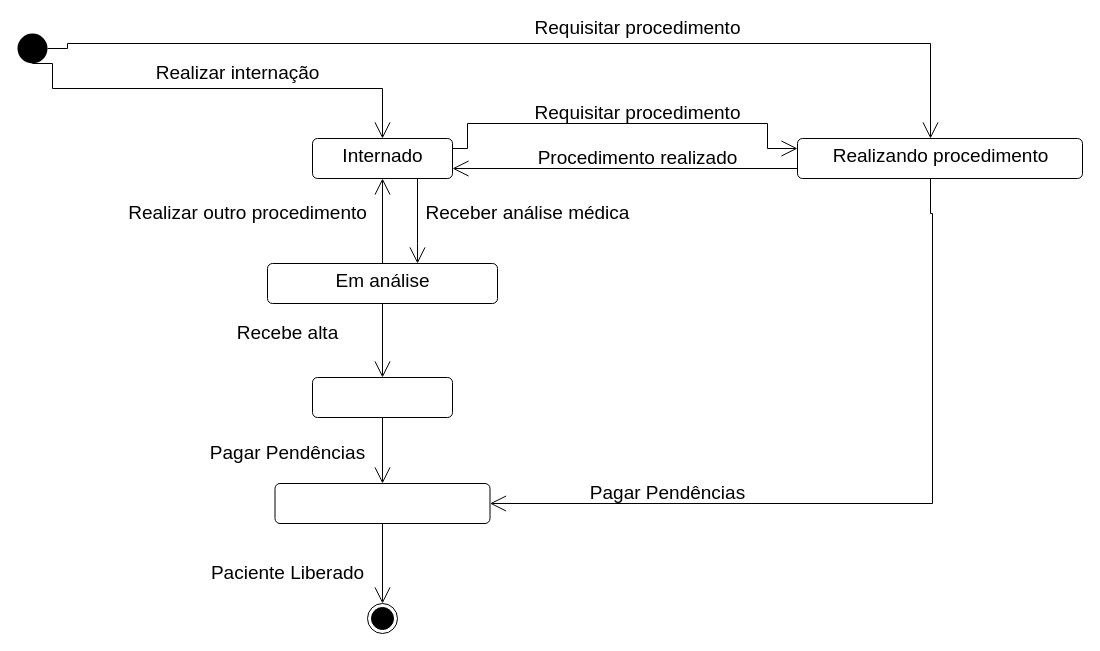
Image size: 1100x651. Some labels were removed from this diagram. Here are the shapes that lost their labels. From the top down, the centre of each, then its label:
At (382,397): "Em alta".
At (382,503): "Sem pendências".
